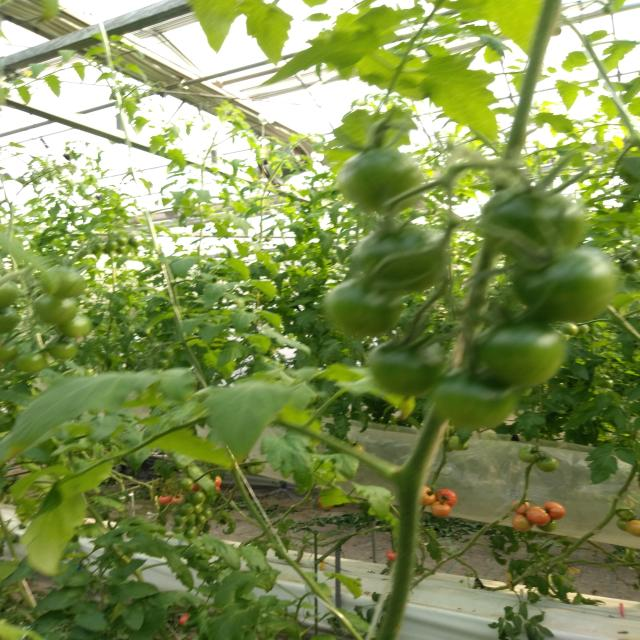c-half-riped: (526, 506, 550, 526), (544, 502, 566, 520), (512, 514, 534, 532), (430, 500, 452, 518), (418, 486, 436, 506), (512, 500, 530, 514), (626, 520, 640, 538), (157, 494, 172, 504)
c-riped: (436, 488, 458, 507), (386, 548, 398, 562)
c-unriped: (482, 185, 588, 263), (516, 249, 616, 323), (352, 224, 451, 294), (480, 323, 564, 390), (336, 150, 424, 213), (436, 366, 517, 432), (322, 275, 403, 335), (368, 338, 446, 398), (39, 265, 86, 298), (33, 293, 79, 325), (57, 314, 93, 337), (46, 338, 78, 361), (15, 353, 45, 373), (0, 307, 18, 335), (516, 446, 540, 463), (0, 342, 18, 363), (536, 457, 559, 473), (536, 521, 556, 532), (560, 322, 578, 334), (178, 503, 194, 515), (574, 322, 589, 334), (190, 492, 204, 504), (175, 513, 188, 524), (172, 524, 185, 533), (197, 514, 207, 524), (193, 504, 203, 514)
